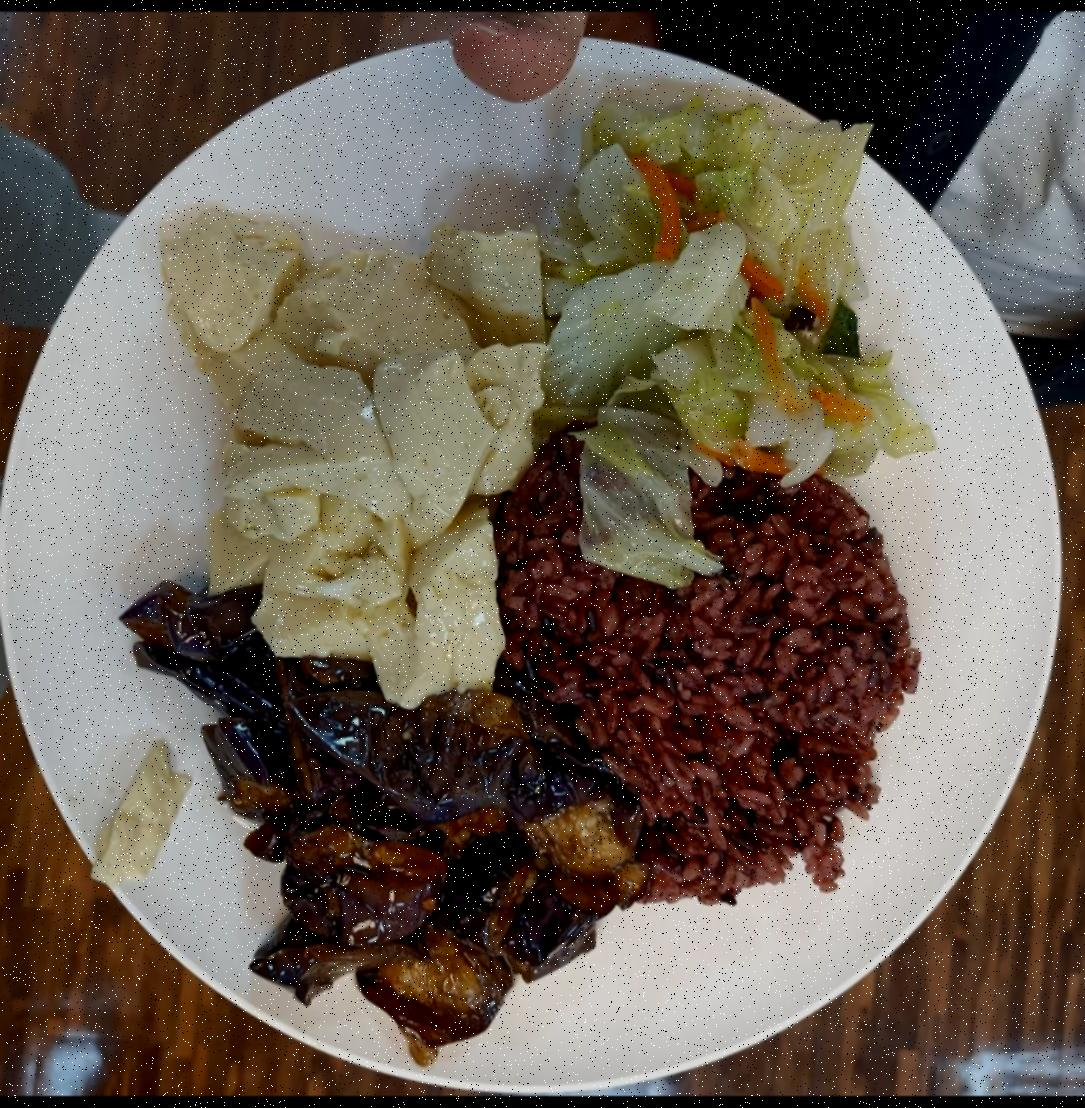plate: (0, 28, 1066, 1094)
purple rice: (521, 448, 926, 902)
side dish: (174, 184, 536, 670), (554, 114, 926, 494), (213, 663, 598, 1001)
